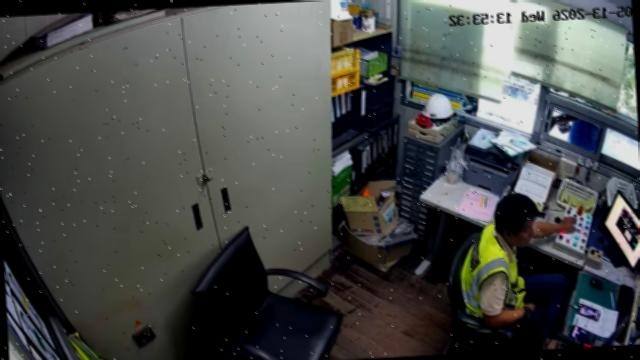Head: (494, 194, 539, 246)
People: (460, 194, 574, 349)
Phone: (569, 325, 596, 345), (577, 304, 600, 319)
